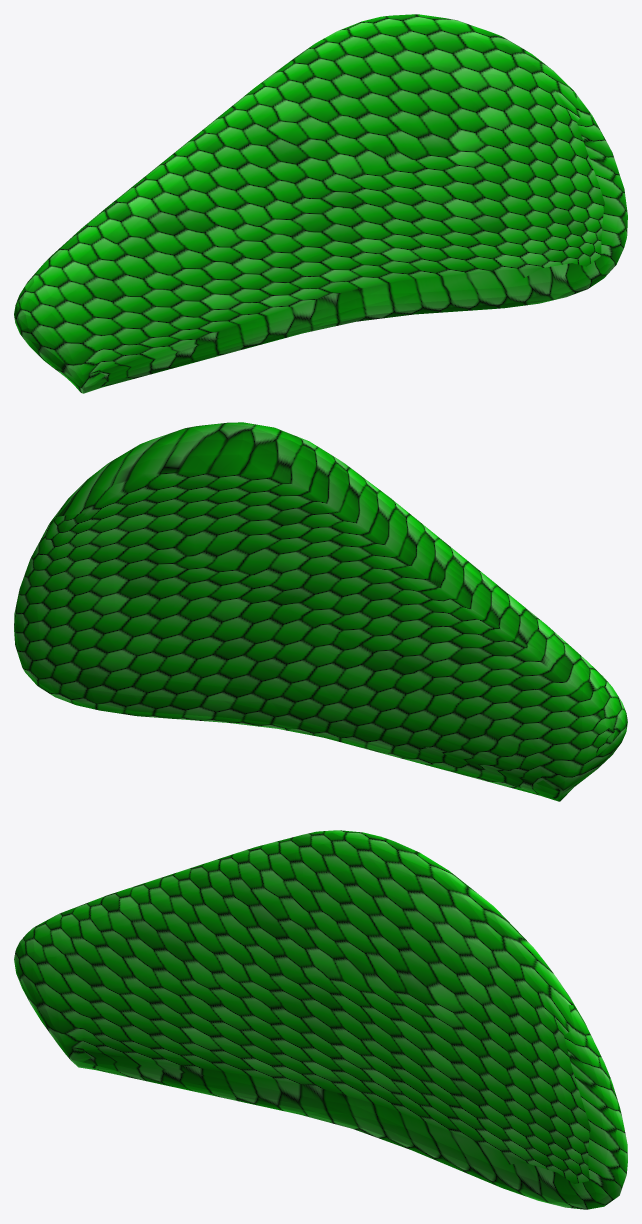
Rendered from Fish5_Fin2.dae.
3 views of the same model, one above another, from view 1: azimuth 30°, elevation 25°; view 2: azimuth 150°, elevation 25°; view 3: azimuth 330°, elevation 25° (orthographic).
Parts seen in each view (by area): view 1: Cube; view 2: Cube; view 3: Cube.
Boxes of the visible parts, left/top/right/bottom form: Cube: left=14, top=14, right=627, bottom=393; Cube: left=14, top=422, right=627, bottom=801; Cube: left=14, top=830, right=627, bottom=1209.
Bounding box in the file's own units: 2.8 × 0.1706 × 1.42.
1 material, 1 textured.
